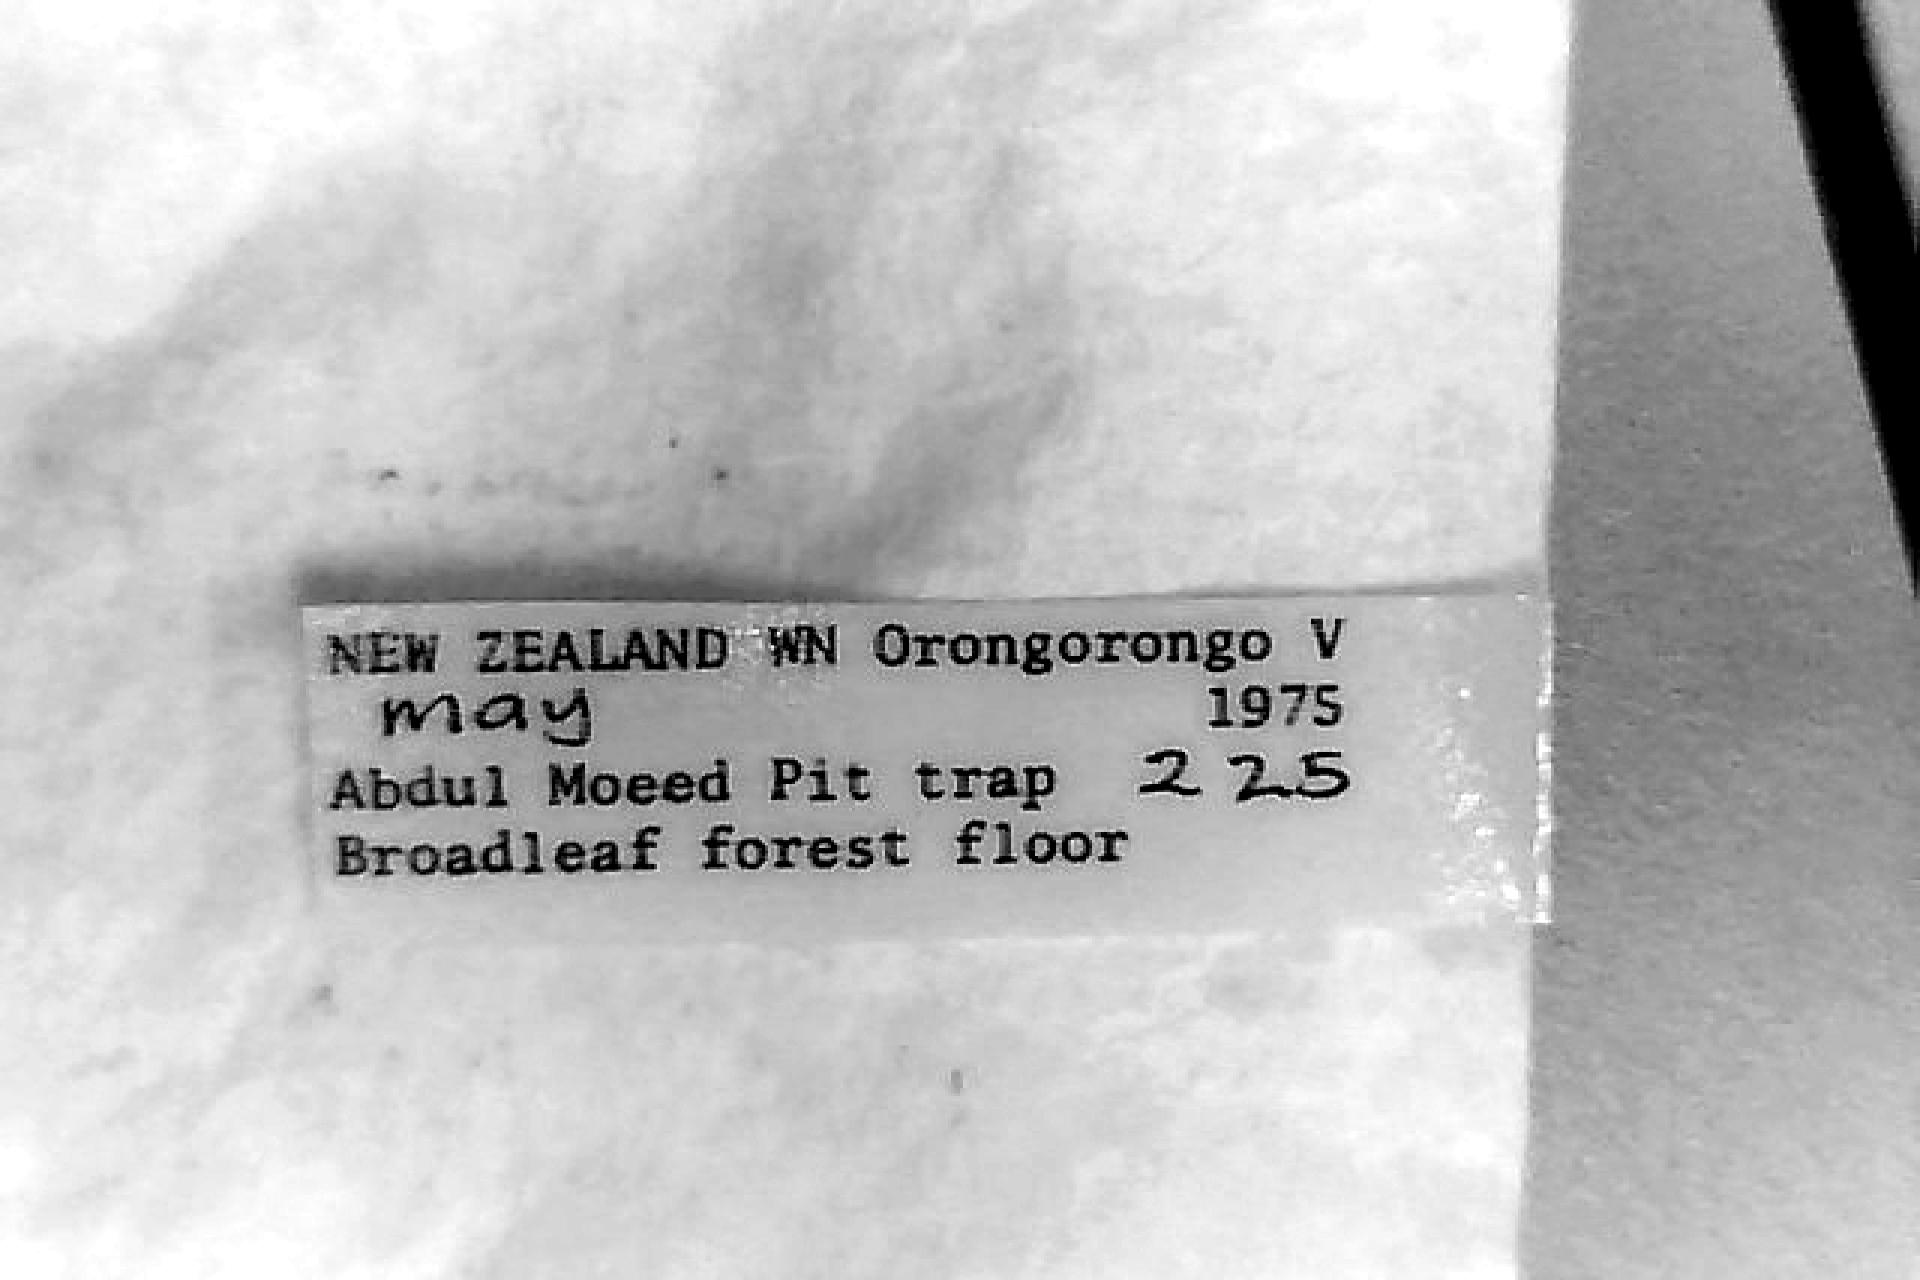mixed_label: (304, 593, 1546, 939)
